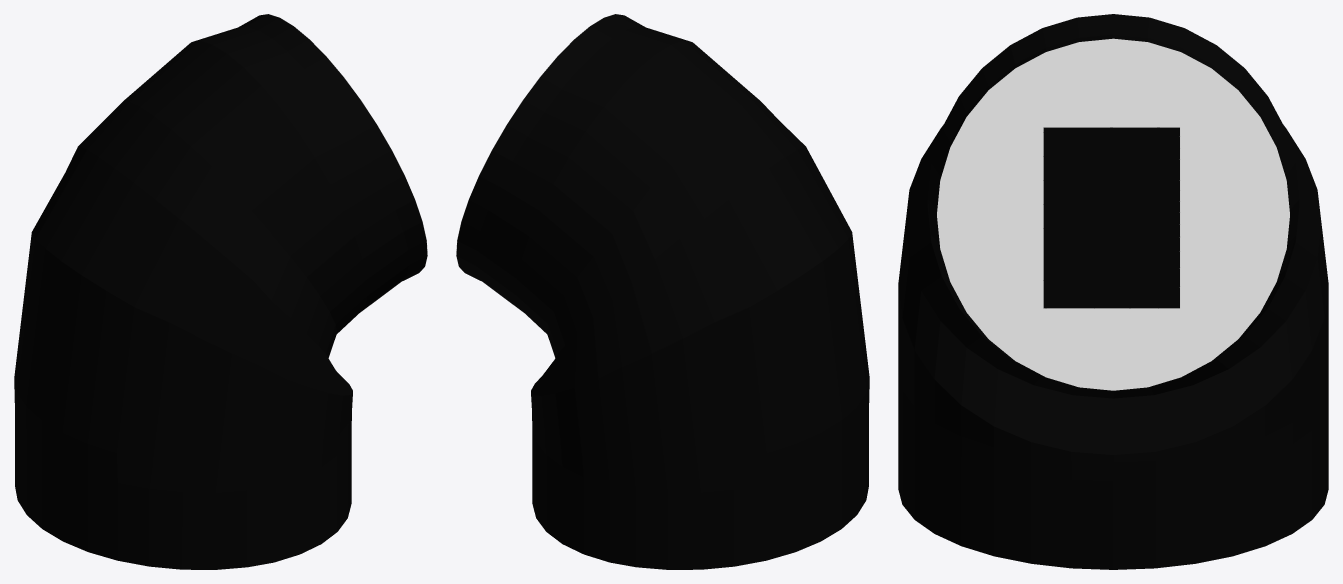
The picture shows the model from 3 angles, left to right: view 1: azimuth 30°, elevation 25°; view 2: azimuth 150°, elevation 25°; view 3: azimuth 270°, elevation 25°; orthographic projection. The views are drawn at different scales.
Parts seen in each view (by area): view 1: 圆环; view 2: 圆环; view 3: 圆环.
Boxes of the visible parts, x1,y1,x2,y2 form: 圆环: (14, 14, 427, 569); 圆环: (456, 14, 869, 569); 圆环: (898, 14, 1328, 569).
Size of the model in its own units: 261 by 321 by 244.
3 materials, 1 textured.
